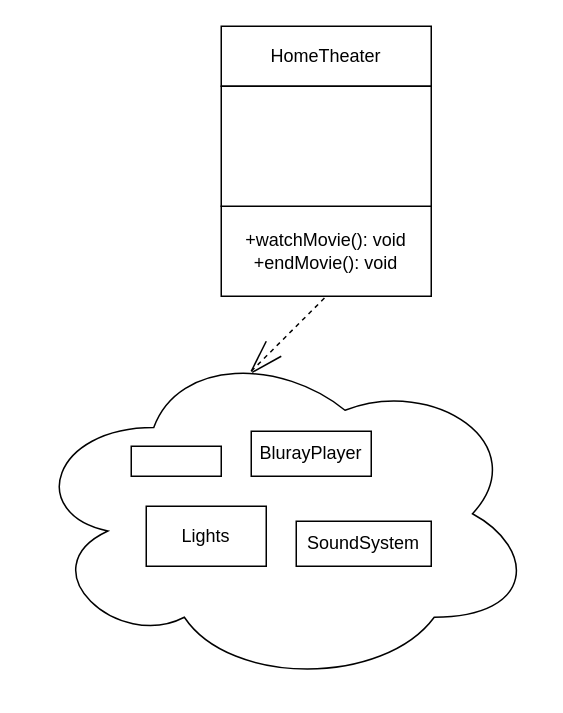
Some shapes in this 563 by 713 pixel diagram are drawn without their labels. The centre of each missing label's shape, as x and y in pixels:
-tv: TV -blureay: BlurayPlayer -sound: SoundSystem -lights: Lights: the point at 325,145
TV: the point at 175,460
